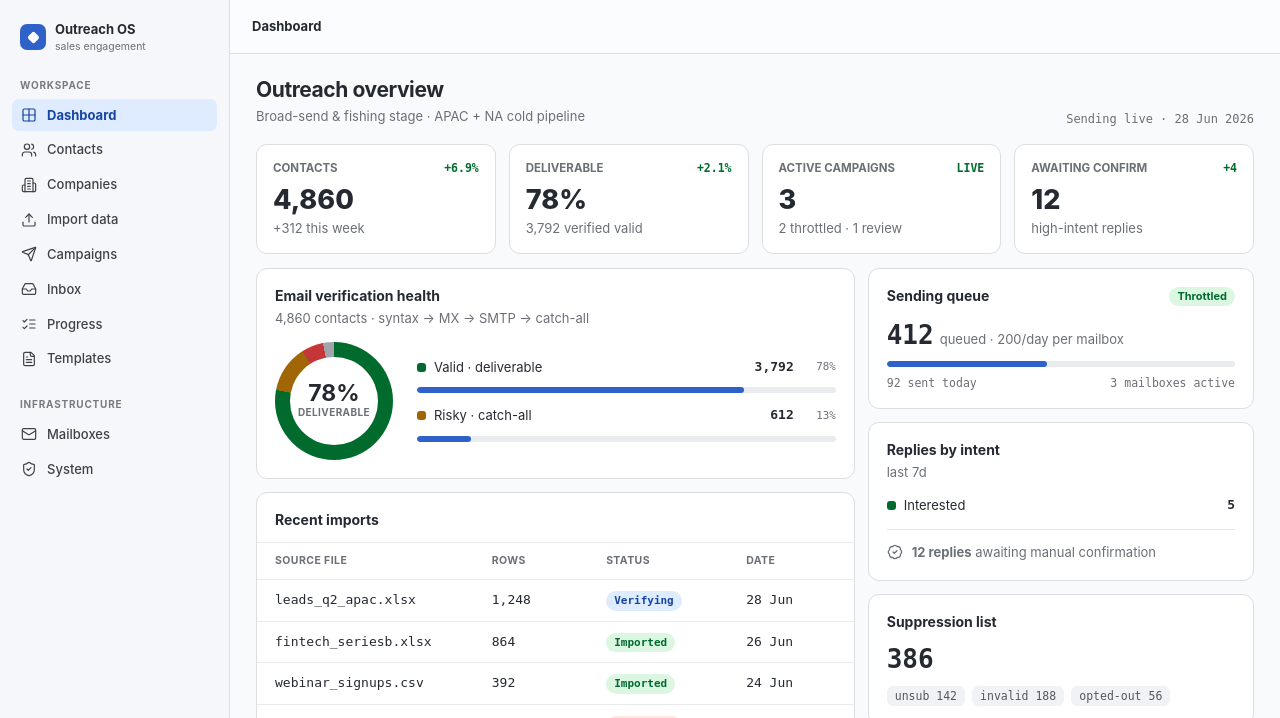
it: Outreach OS shell › renders company progress and feasibility status
This screenshot has width=1280, height=718.
Click the button "Companies".
click(114, 185)  # box [12,168,217,201]
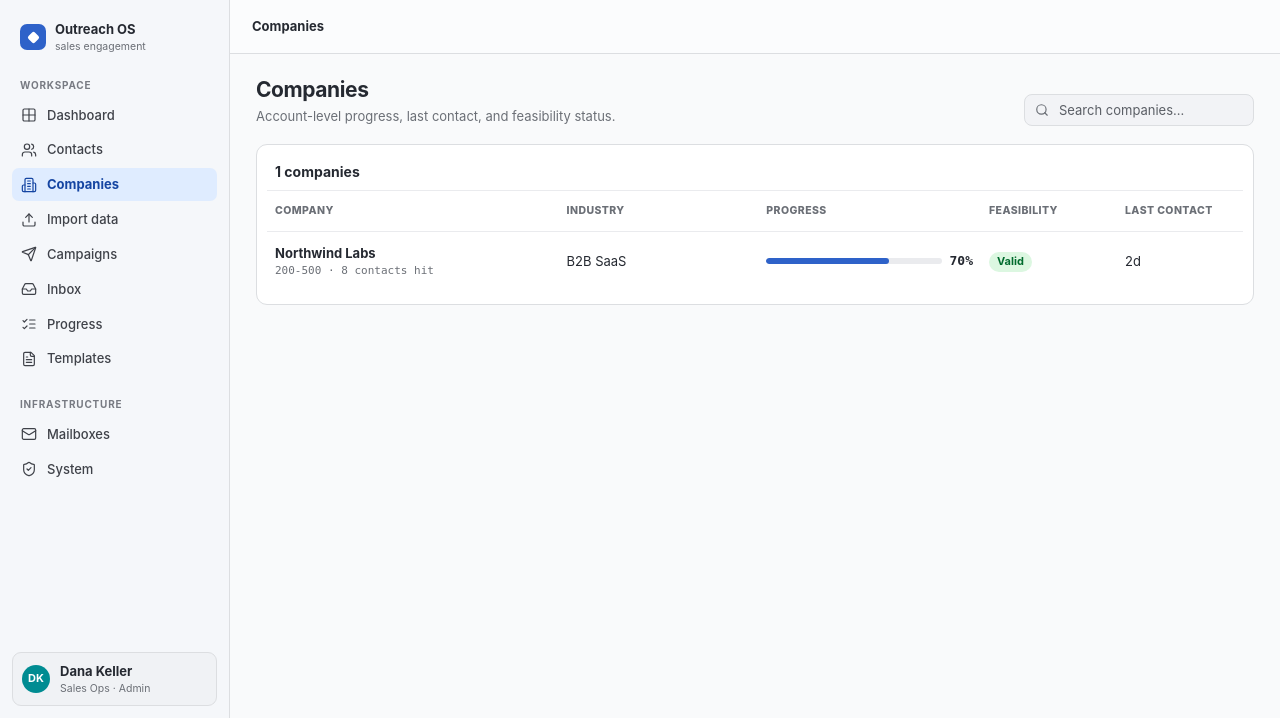
Check: the heading "Companies" is shown, box [256,77,368,102]
Check: the search field labelled "Search companies" is shown, box [1057,100,1243,120]
Check: the text "B2B SaaS" is shown, box [567,253,626,269]
